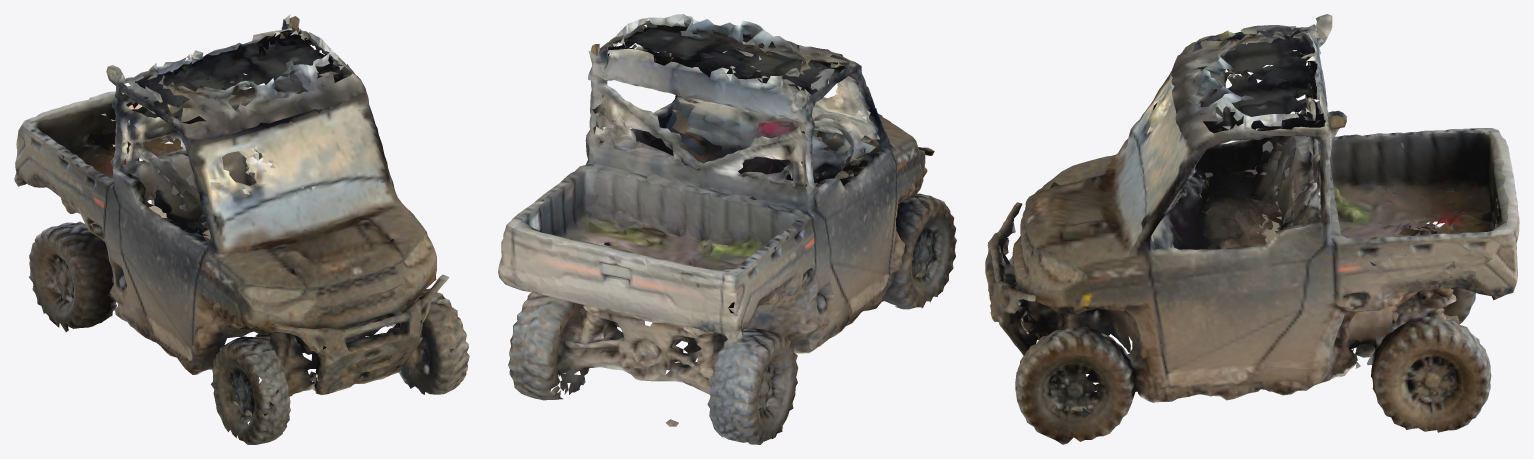
File: buggy-v2.glb
3 renders of one model, left to right at view 1: azimuth 30°, elevation 25°; view 2: azimuth 150°, elevation 25°; view 3: azimuth 270°, elevation 25°, orthographic. The views are drawn at different scales.
Visible parts, largest first — view 1: body; view 2: body; view 3: body.
Part boxes in pixels (x1,y1,x2,y2): body: (14,14,469,444); body: (498,14,956,444); body: (985,14,1519,444).
Bounding box in the file's own units: 1.7 × 1.94 × 2.98.
1 material, 1 textured.
